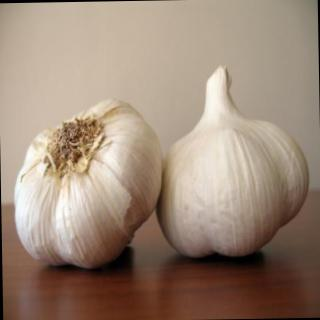Bawang Putih: (13, 99, 165, 270), (155, 113, 312, 259)
